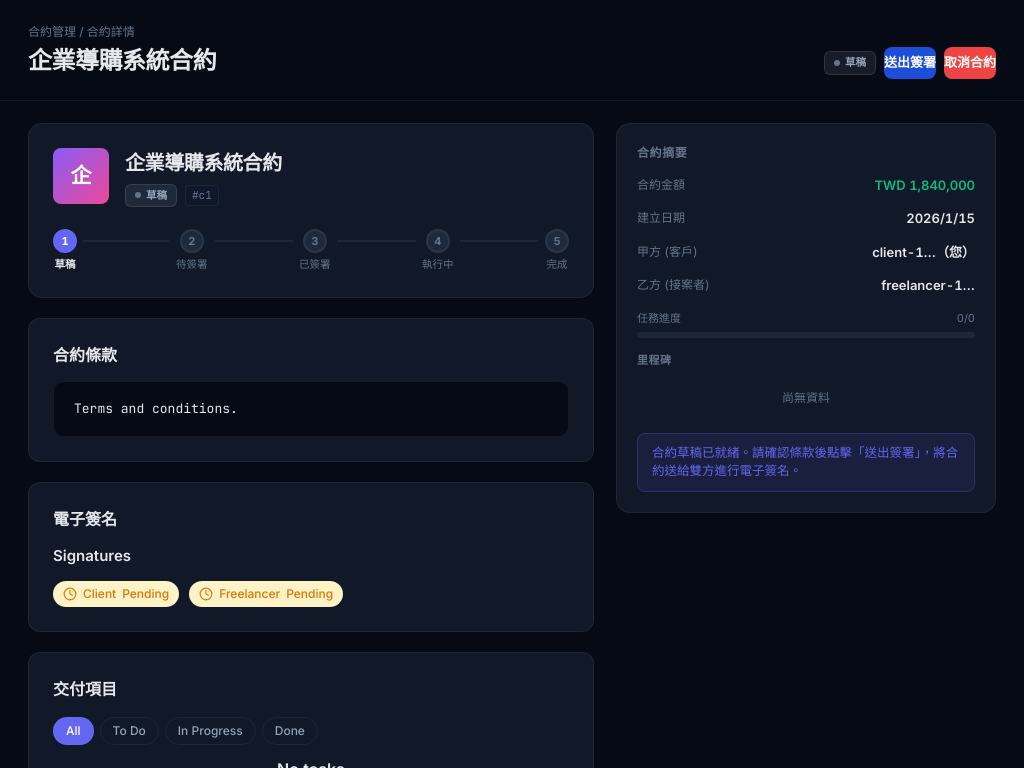
ContractDetailPage › (interaction-2) clicking "取消合約" opens confirm dialog
Click the button "取消合約".
click(970, 63)  # box [944, 47, 996, 79]
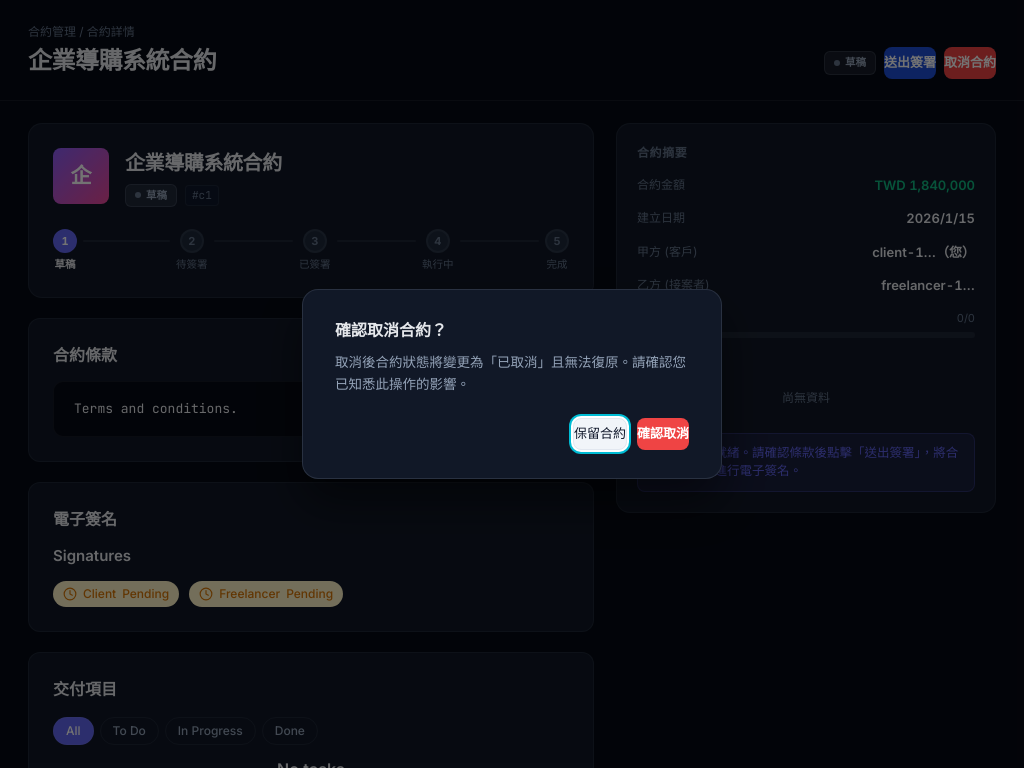
Result: the dialog "確認取消合約？" is shown
